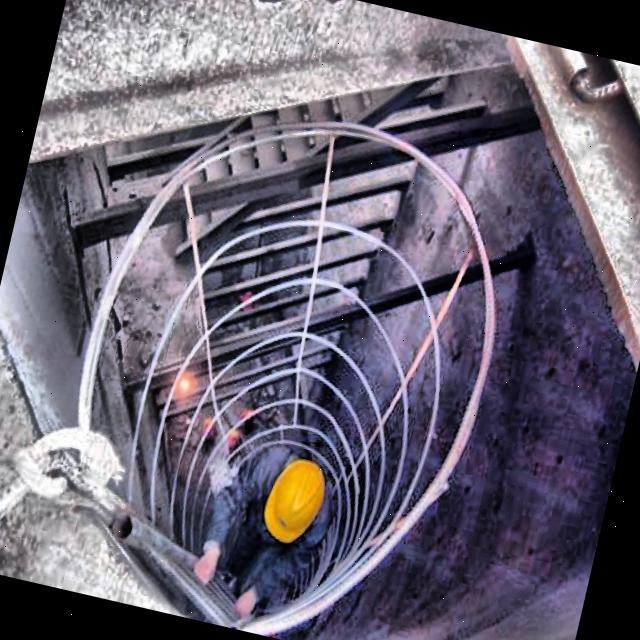helmet: (258, 450, 333, 546)
